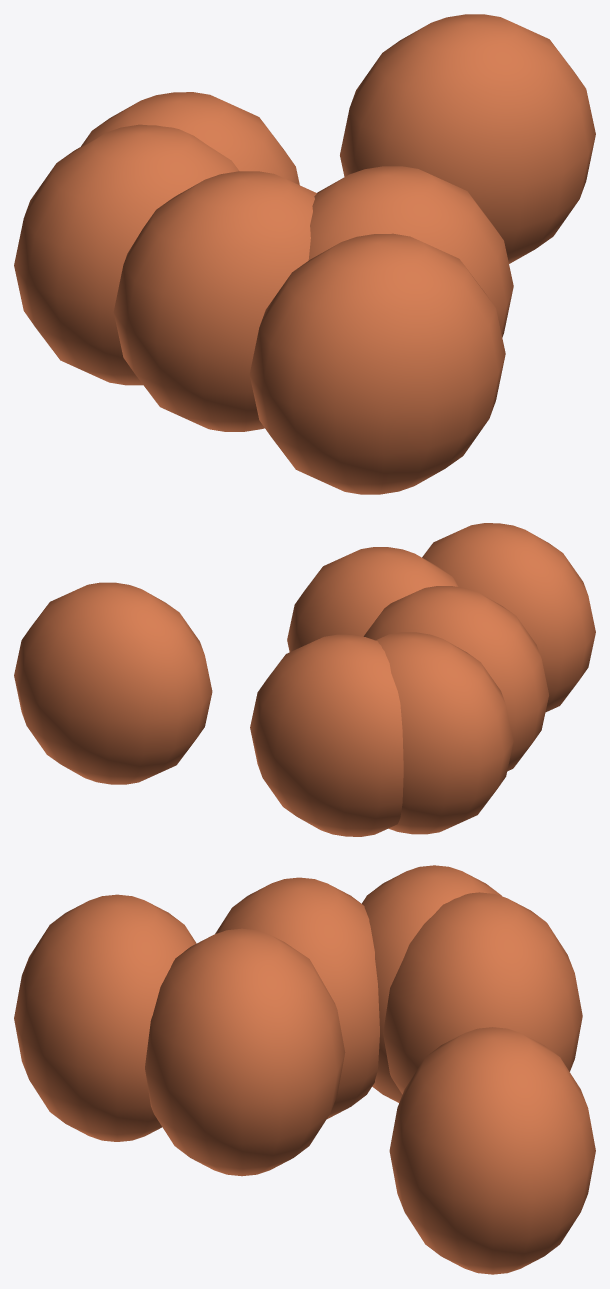
File: BSC-22.glb
3 renders of one model, top to bottom at view 1: azimuth 30°, elevation 25°; view 2: azimuth 150°, elevation 25°; view 3: azimuth 270°, elevation 25°, orthographic. The views are drawn at different scales.
Parts seen in each view (by area): view 1: rock.005, rock.002, rock.003, rock, rock.001, rock.004; view 2: rock.002, rock.004, rock, rock.005, rock.003, rock.001; view 3: rock.002, rock.001, rock.005, rock.004, rock.003, rock.
Boxes of the visible parts, x1,y1,x2,y2 form: rock.005: (249, 233, 505, 494); rock.002: (340, 14, 595, 263); rock.003: (113, 171, 316, 431); rock: (14, 124, 239, 385); rock.001: (308, 166, 513, 337); rock.004: (81, 92, 299, 185); rock.002: (14, 582, 212, 784); rock.004: (250, 634, 403, 836); rock: (375, 632, 513, 834); rock.005: (422, 523, 595, 712); rock.003: (363, 586, 548, 771); rock.001: (287, 547, 458, 651); rock.002: (389, 1027, 595, 1274); rock.001: (145, 928, 345, 1176); rock.005: (14, 894, 196, 1141); rock.004: (383, 892, 582, 1094); rock.003: (215, 877, 379, 1118); rock: (362, 865, 501, 1102).
Bounding box in the file's own units: 1.53 × 0.6 × 1.41.
